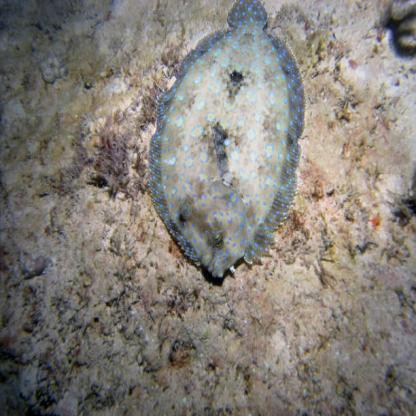flounder: (145, 1, 306, 284)
